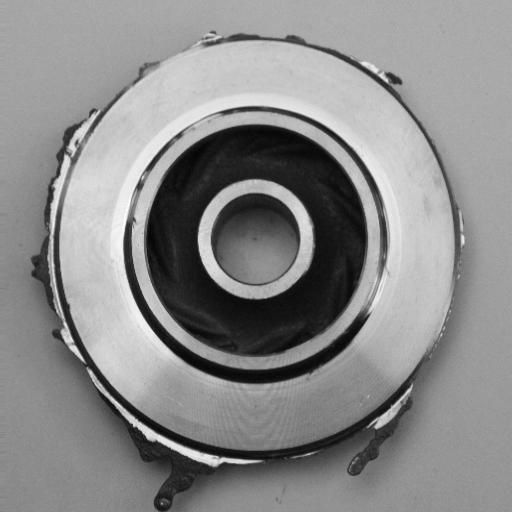casting_with_burr: (28, 26, 469, 509)
scratch: (157, 102, 238, 150), (124, 162, 151, 237)
